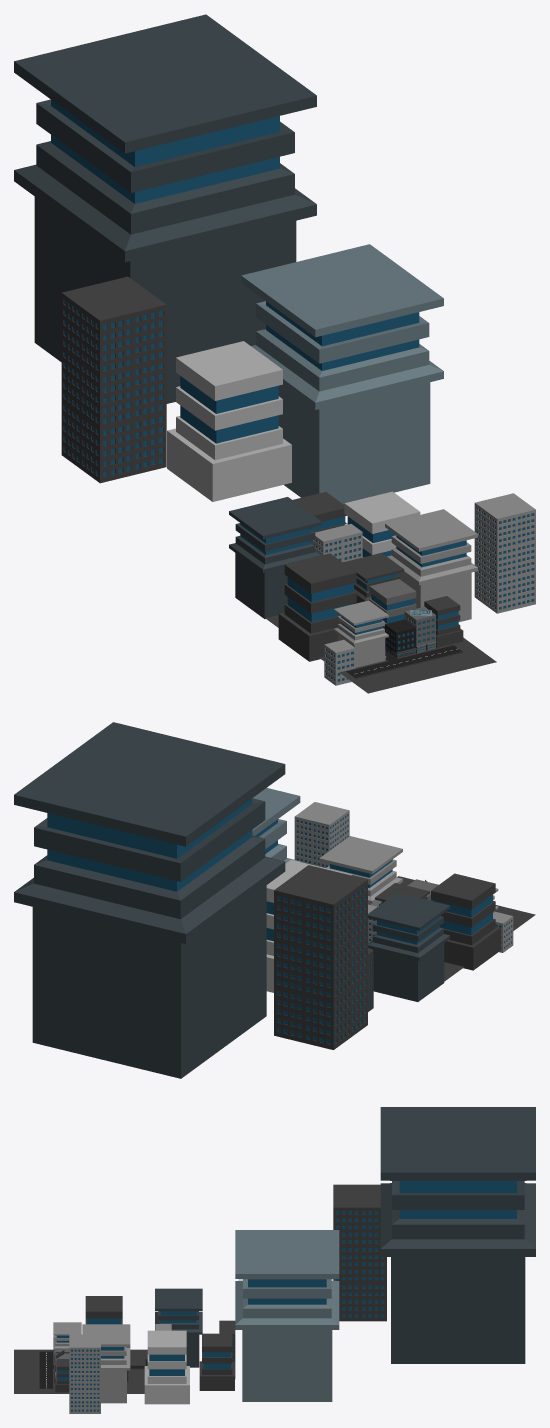
File: menu scene.glb
The picture shows the model from 3 angles, top to bottom: view 1: azimuth 30°, elevation 25°; view 2: azimuth 150°, elevation 25°; view 3: azimuth 270°, elevation 25°; orthographic projection. The views are drawn at different scales.
Parts seen in each view (by area): view 1: building.018, building.016, building.017, building.014, building.003, building.015, building.001, building.008, Plane, building.010, building.013, building.004 (+8 smaller); view 2: building.018, building.017, building.003, building.008, building.001, building.015, building.016, building.014, Plane, building.005, building.004; view 3: building.018, building.016, building.017, building.010, building.015, building.003, building.001, Plane, building.011, building.008, building.013, road (+1 smaller).
Part boxes in pixels (box(x1,y1,x2,y2)): building.018: box(14, 14, 316, 403); building.016: box(241, 244, 443, 504); building.017: box(61, 276, 166, 483); building.014: box(167, 341, 291, 501); building.003: box(229, 497, 321, 618); building.015: box(474, 493, 535, 613); building.001: box(385, 509, 477, 621); building.008: box(278, 553, 356, 661); Plane: box(265, 615, 496, 693); building.010: box(344, 491, 420, 557); building.013: box(333, 600, 388, 667); building.004: box(343, 553, 404, 603); building.018: box(14, 722, 285, 1078); building.017: box(274, 865, 367, 1049); building.003: box(368, 892, 449, 1001); building.008: box(431, 873, 500, 970); building.001: box(319, 836, 402, 906); building.015: box(294, 802, 349, 867); building.016: box(252, 788, 300, 863); building.014: box(266, 859, 351, 992); Plane: box(444, 905, 535, 981); building.005: box(493, 912, 513, 952); building.004: box(375, 883, 429, 905); building.018: box(380, 1107, 535, 1363); building.016: box(235, 1230, 339, 1401); building.017: box(333, 1184, 386, 1321); building.010: box(144, 1330, 189, 1404); building.015: box(69, 1334, 100, 1413); building.003: box(155, 1288, 202, 1367); building.001: box(82, 1324, 130, 1403); Plane: box(14, 1349, 147, 1393); building.011: box(199, 1333, 234, 1390); building.008: box(85, 1296, 122, 1324); building.013: box(53, 1322, 81, 1365); road: box(39, 1351, 147, 1388).
Size of the model in its own units: 402 by 515 by 946.
Materials: 2 (2 with a texture image).
